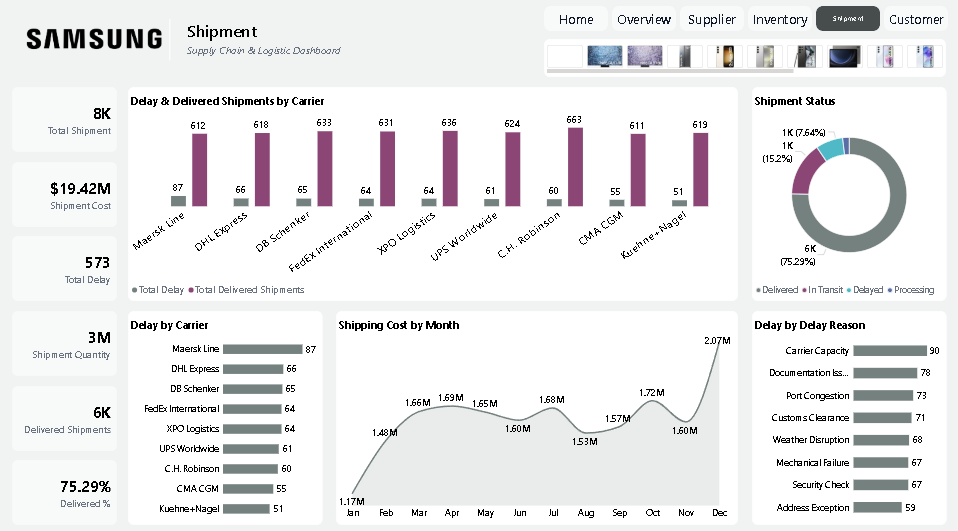

This screenshot's page, from the dashboard's own definition file:
{"tool":"powerbi","page":{"name":"Shipment","canvas":[1920,1080],"ordinal":4},"visuals":[{"type":"image","box":[34,30,300,106],"z":0},{"type":"shape","title":"Shipment","box":[376.1,43.5,352.2,84.8],"z":1000},{"type":"shape","box":[290,43.3,103.3,83.3],"z":2000},{"type":"cardVisual","fields":{"Data":["Measures Table.Shipment Cost"]},"box":[26.7,329.9,210,130],"z":3000},{"type":"cardVisual","fields":{"Data":["Measures Table.Total Delay"]},"box":[26.7,479,210,130],"z":4000},{"type":"cardVisual","fields":{"Data":["Measures Table.Delivered %"]},"box":[26.1,926.1,210,130.4],"z":5000},{"type":"cardVisual","fields":{"Data":["Measures Table.Total Shipment"]},"box":[26.1,180.4,210,130.4],"z":6000},{"type":"cardVisual","fields":{"Data":["Measures Table.Total Delivered Shipments"]},"box":[26.7,777,210,130],"z":7000},{"type":"cardVisual","fields":{"Data":["Measures Table.Total Shipment Qty"]},"box":[26.7,628,210,130],"z":8000},{"type":"areaChart","title":"Shipping Cost by Month","fields":{"Category":["dim_date.Month_short"],"Y":["Sum(fact_shipment.shipping_cost)"]},"box":[673.9,628.3,804.3,428.3],"z":9000},{"type":"clusteredBarChart","title":"Delay by Carrier","fields":{"Y":["Measures Table.Total Delay"],"Category":["fact_shipment.carrier"]},"box":[258.7,628.3,389.1,428.3],"z":10000},{"type":"clusteredColumnChart","title":"Delay & Delivered Shipments by Carrier","fields":{"Category":["fact_shipment.carrier"],"Y":["Measures Table.Total Delay","Measures Table.Total Delivered Shipments"]},"box":[258.7,180.4,1219.6,428.3],"z":11000},{"type":"clusteredBarChart","title":"Delay by Delay Reason","fields":{"Y":["Measures Table.Total Delay"],"Category":["fact_shipment.delay_reason"]},"box":[1506.5,628.3,389.1,428.3],"z":12000},{"type":"donutChart","title":"Shipment Status","fields":{"Category":["fact_shipment.status"],"Y":["Measures Table.Total Shipment"]},"box":[1506.5,180.4,389.1,428.3],"z":13000},{"type":"advancedSlicerVisual","fields":{"Values":["dim_product.product_name"]},"box":[1089.1,84.8,804.3,76.1],"z":14000},{"type":"pageNavigator","box":[1089.1,17.4,808.7,50],"z":15000}]}

Visuals, with their boxes in screenshot pixels (x1, y1, x2, y2), scaled from the page's 1920x1080 canvas onto the 958x531 screenshot:
image: [left=17, top=15, right=167, bottom=67]
"Shipment" shape: [left=188, top=21, right=363, bottom=63]
shape: [left=145, top=21, right=196, bottom=62]
cardVisual - Measures Table.Shipment Cost: [left=13, top=162, right=118, bottom=226]
cardVisual - Measures Table.Total Delay: [left=13, top=236, right=118, bottom=299]
cardVisual - Measures Table.Delivered %: [left=13, top=455, right=118, bottom=519]
cardVisual - Measures Table.Total Shipment: [left=13, top=89, right=118, bottom=153]
cardVisual - Measures Table.Total Delivered Shipments: [left=13, top=382, right=118, bottom=446]
cardVisual - Measures Table.Total Shipment Qty: [left=13, top=309, right=118, bottom=373]
"Shipping Cost by Month" areaChart: [left=336, top=309, right=738, bottom=519]
"Delay by Carrier" clusteredBarChart: [left=129, top=309, right=323, bottom=519]
"Delay & Delivered Shipments by Carrier" clusteredColumnChart: [left=129, top=89, right=738, bottom=299]
"Delay by Delay Reason" clusteredBarChart: [left=752, top=309, right=946, bottom=519]
"Shipment Status" donutChart: [left=752, top=89, right=946, bottom=299]
advancedSlicerVisual - dim_product.product_name: [left=543, top=42, right=945, bottom=79]
pageNavigator: [left=543, top=9, right=947, bottom=33]
